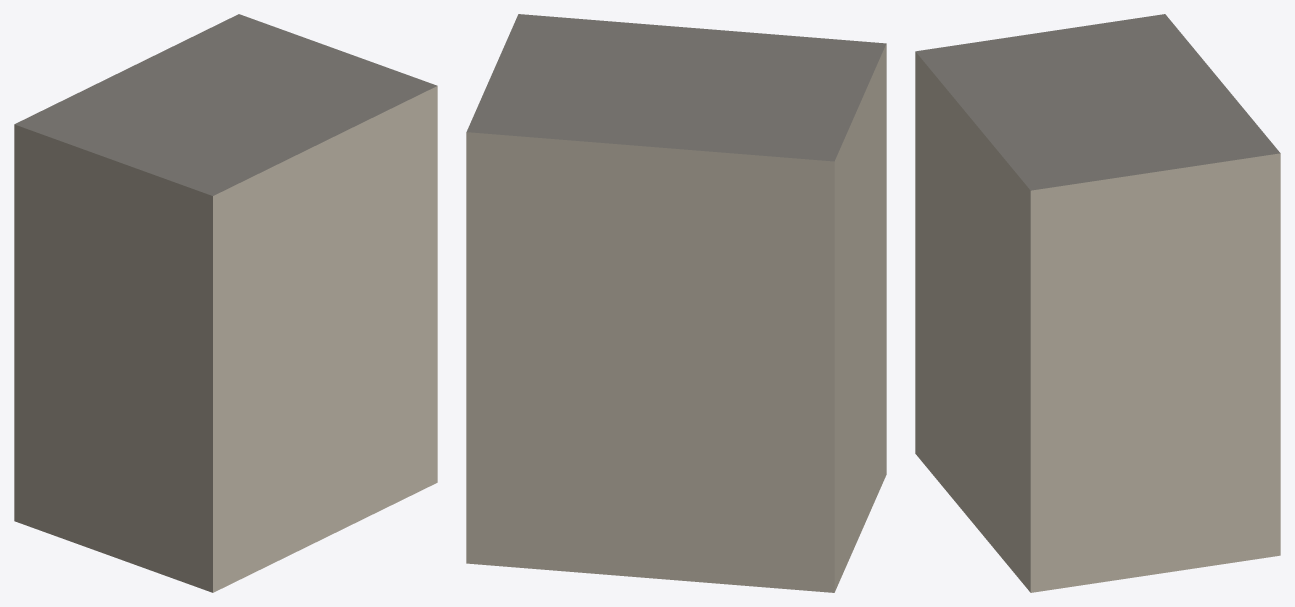
3 views of the same model, side by side, from view 1: azimuth 30°, elevation 25°; view 2: azimuth 150°, elevation 25°; view 3: azimuth 270°, elevation 25° (orthographic). The views are drawn at different scales.
Visible parts, largest first — view 1: HP-w505650484; view 2: HP-w505650484; view 3: HP-w505650484.
Boxes of the visible parts, <box> form: HP-w505650484: <box>14,14,437,592</box>; HP-w505650484: <box>466,14,886,592</box>; HP-w505650484: <box>915,14,1280,592</box>.
Bounding box in the file's own units: 16.95 × 18 × 14.81.
